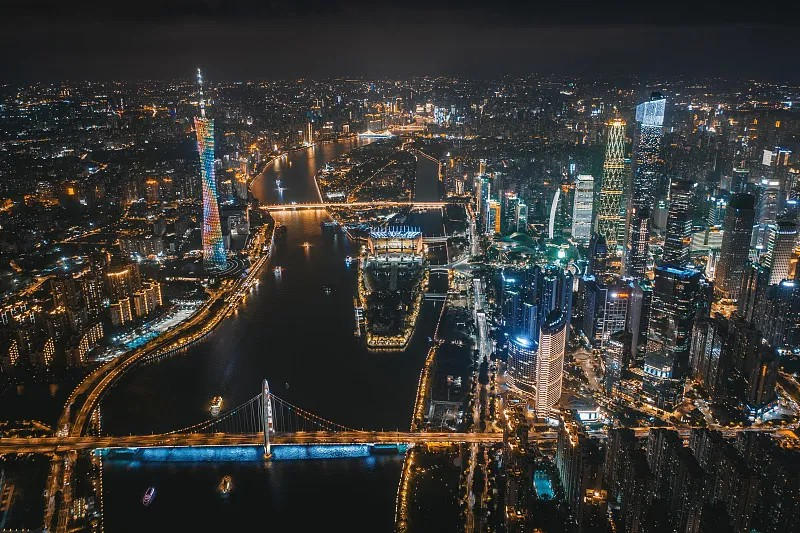Canton: (191, 67, 228, 273)
